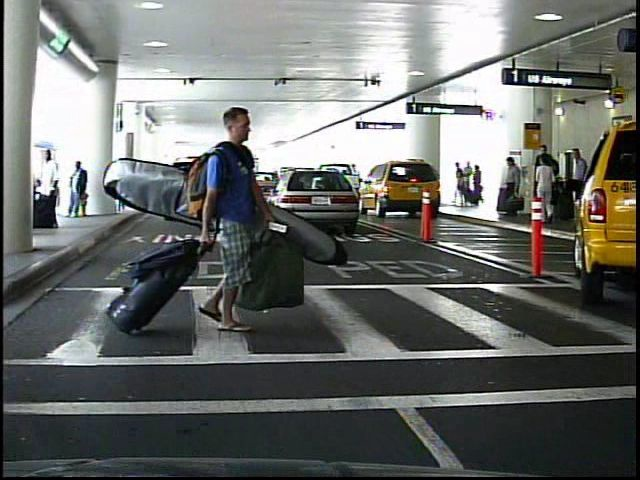person: (199, 100, 287, 353), (31, 147, 63, 231), (564, 145, 591, 225), (67, 158, 95, 225), (534, 143, 556, 220), (536, 155, 558, 225), (500, 158, 522, 221), (453, 160, 467, 208), (463, 161, 475, 208), (471, 162, 483, 206)
